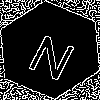N: (25, 25, 83, 82)
